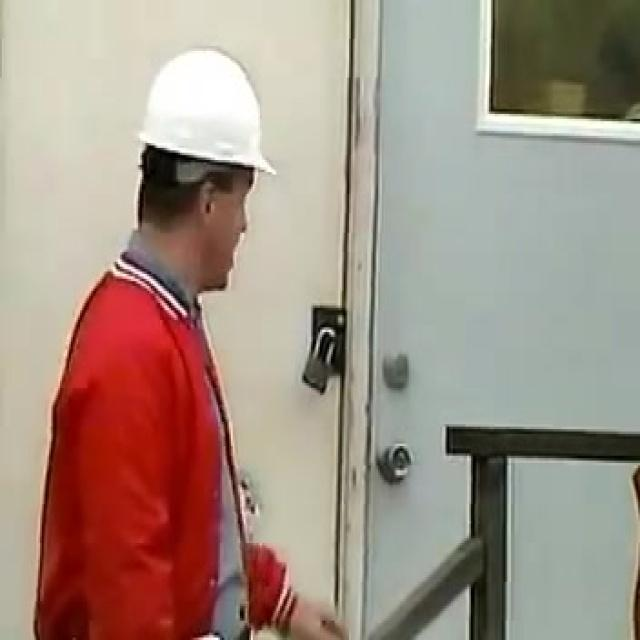helmet: (131, 56, 280, 244)
